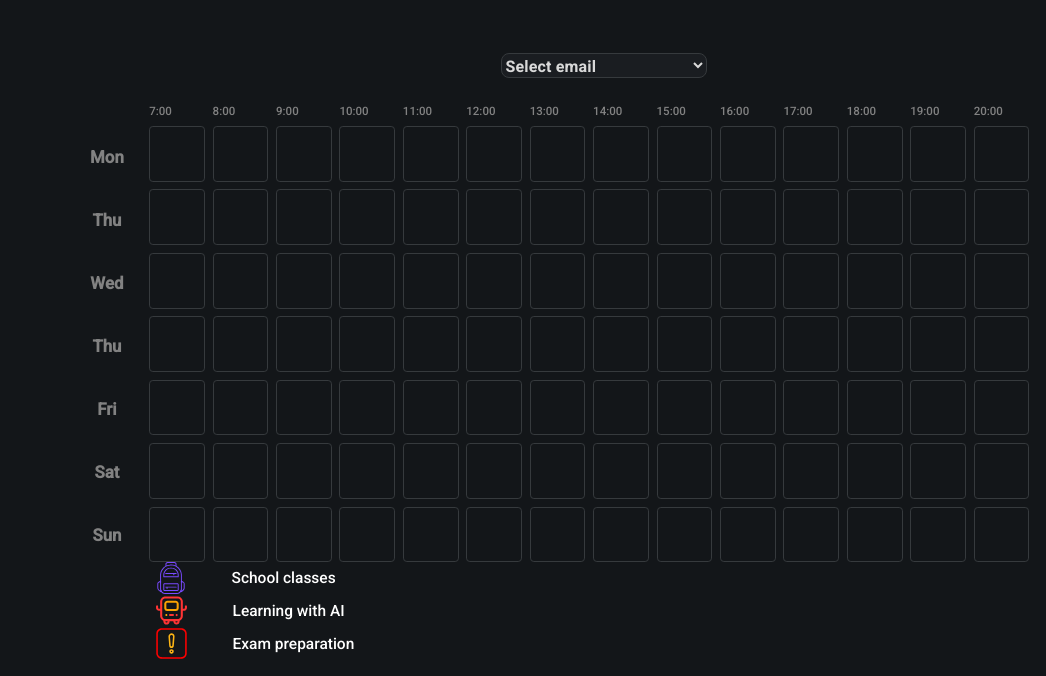
Test: Schedule › admin can click an empty rect and popup appears
Click the element with test id "schedule-rect-0". click: (177, 154)
box: [149,126,205,182]
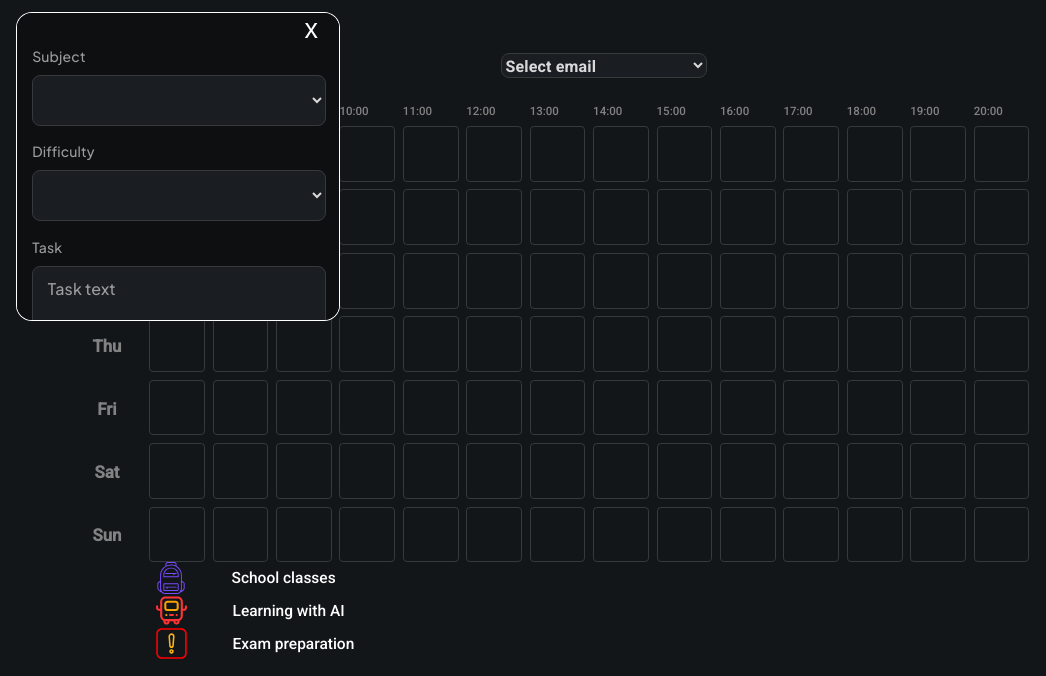
Now the dropdown labelled "Subject" is shown, box [33,76,325,125]
Now the dropdown labelled "Difficulty" is shown, box [33,171,325,220]
Now the text box labelled "Task" is shown, box [33,267,325,321]
